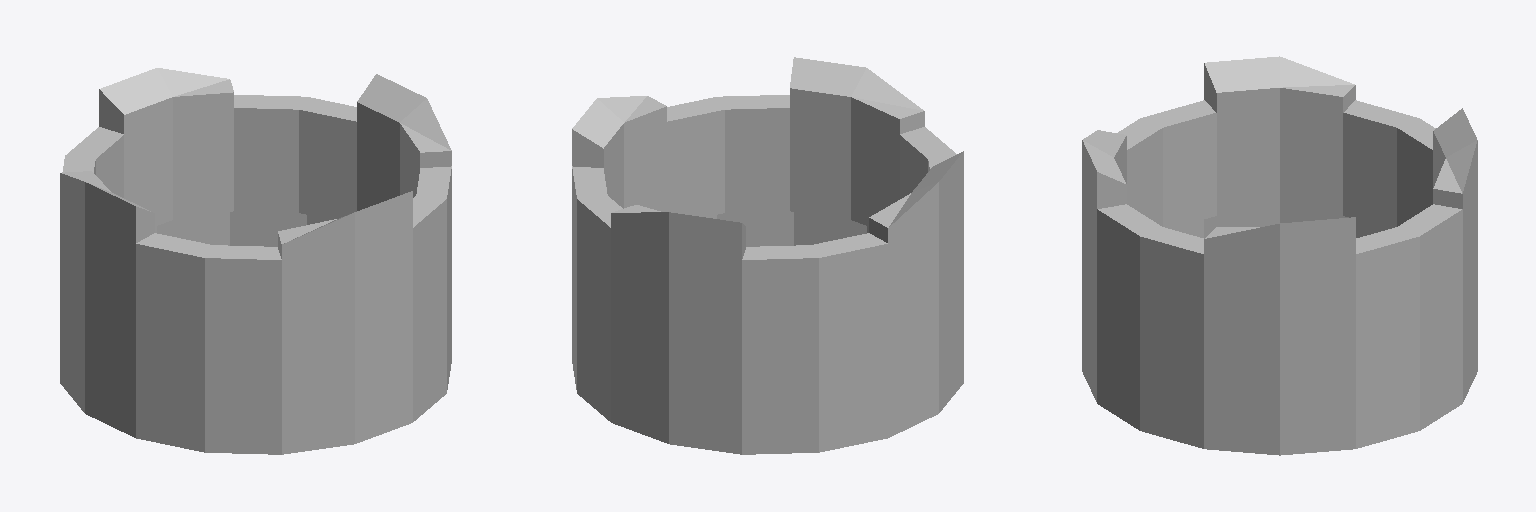
File: drill_blade1.obj
3 renders of one model, left to right at view 1: azimuth 30°, elevation 25°; view 2: azimuth 150°, elevation 25°; view 3: azimuth 270°, elevation 25°, orthographic.
Visible parts, largest first — view 1: Cylinder.008_Cylinder.010; view 2: Cylinder.008_Cylinder.010; view 3: Cylinder.008_Cylinder.010.
Boxes of the visible parts, x1,y1,x2,y2 form: Cylinder.008_Cylinder.010: [60, 68, 451, 454]; Cylinder.008_Cylinder.010: [572, 57, 963, 454]; Cylinder.008_Cylinder.010: [1082, 56, 1477, 455].
Size of the model in its own units: 4.1 by 2.66 by 4.1.